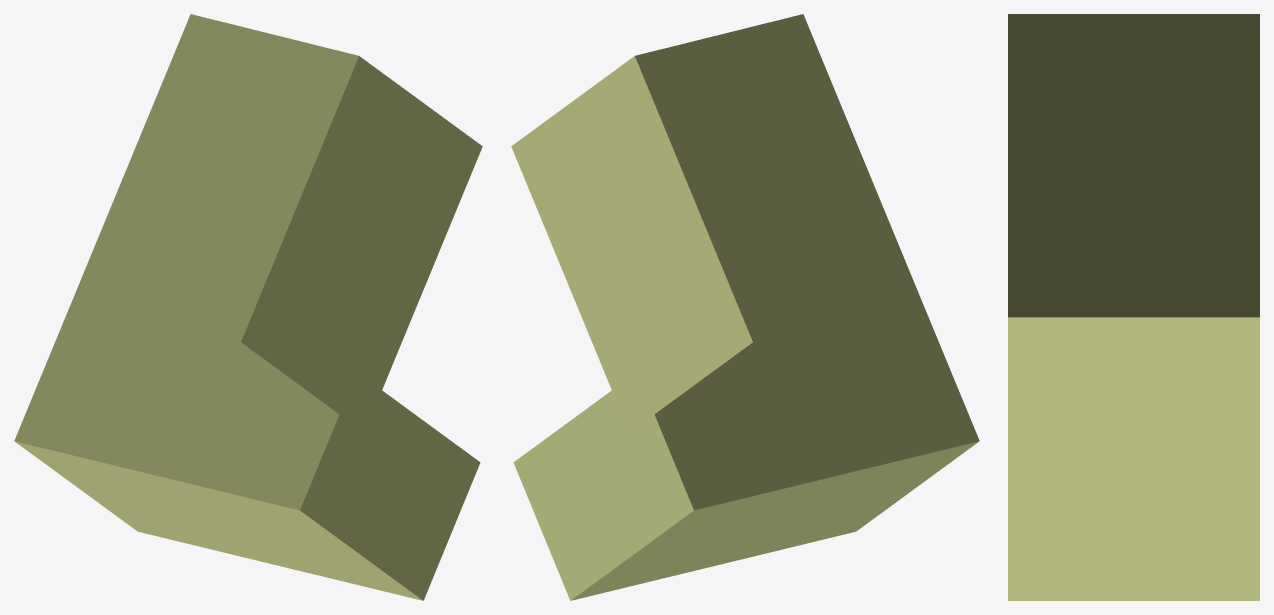
3 renders of one model, left to right at view 1: azimuth 30°, elevation 25°; view 2: azimuth 150°, elevation 25°; view 3: azimuth 270°, elevation 25°, orthographic.
Parts seen in each view (by area): view 1: 0_1_0_0_0_1_0_1_3; view 2: 0_1_0_0_0_1_0_1_3; view 3: 0_1_0_0_0_1_0_1_3.
Part boxes in pixels (<box>): 0_1_0_0_0_1_0_1_3: <box>14,14,482,600</box>; 0_1_0_0_0_1_0_1_3: <box>511,14,979,600</box>; 0_1_0_0_0_1_0_1_3: <box>1008,14,1259,600</box>.
Size of the model in its own units: 9.67 by 14.01 by 6.
